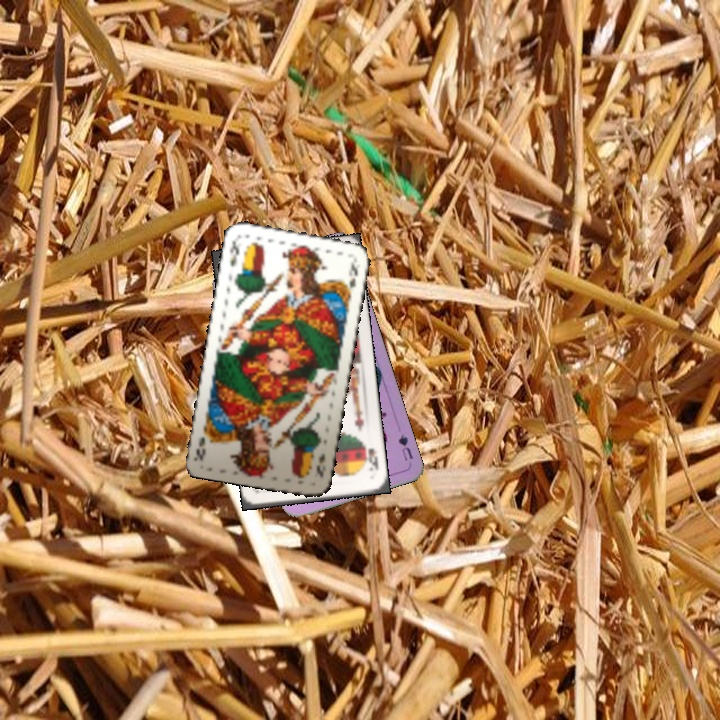EK: (225, 235, 242, 269), (312, 449, 329, 480)
GU: (394, 430, 416, 463)
SK: (360, 438, 381, 473)
